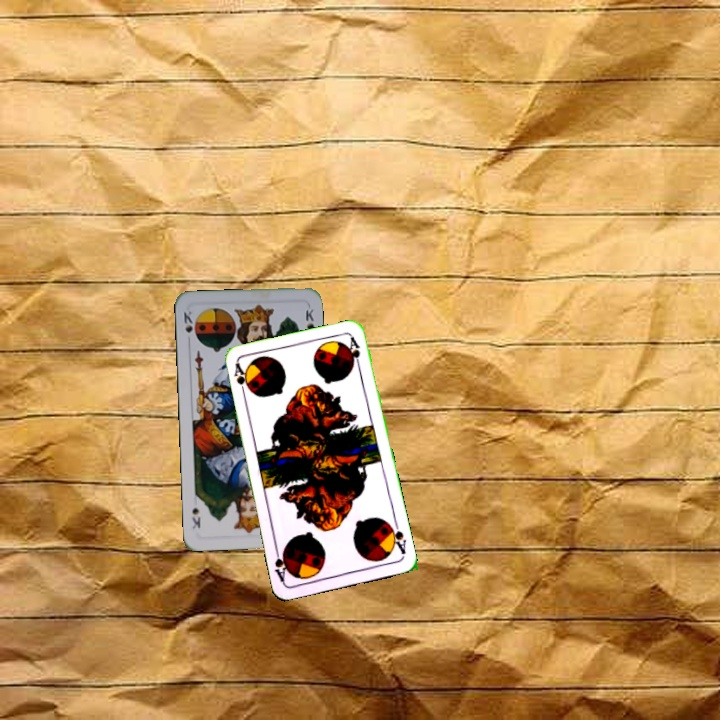SA: (384, 517, 409, 557), (230, 359, 250, 400)
SK: (180, 307, 195, 335)
